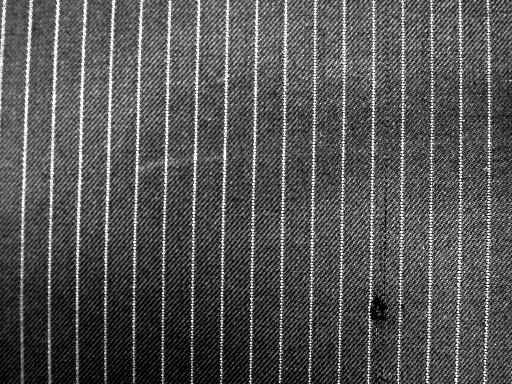fabric_hole: (359, 281, 412, 335), (364, 297, 400, 334)
